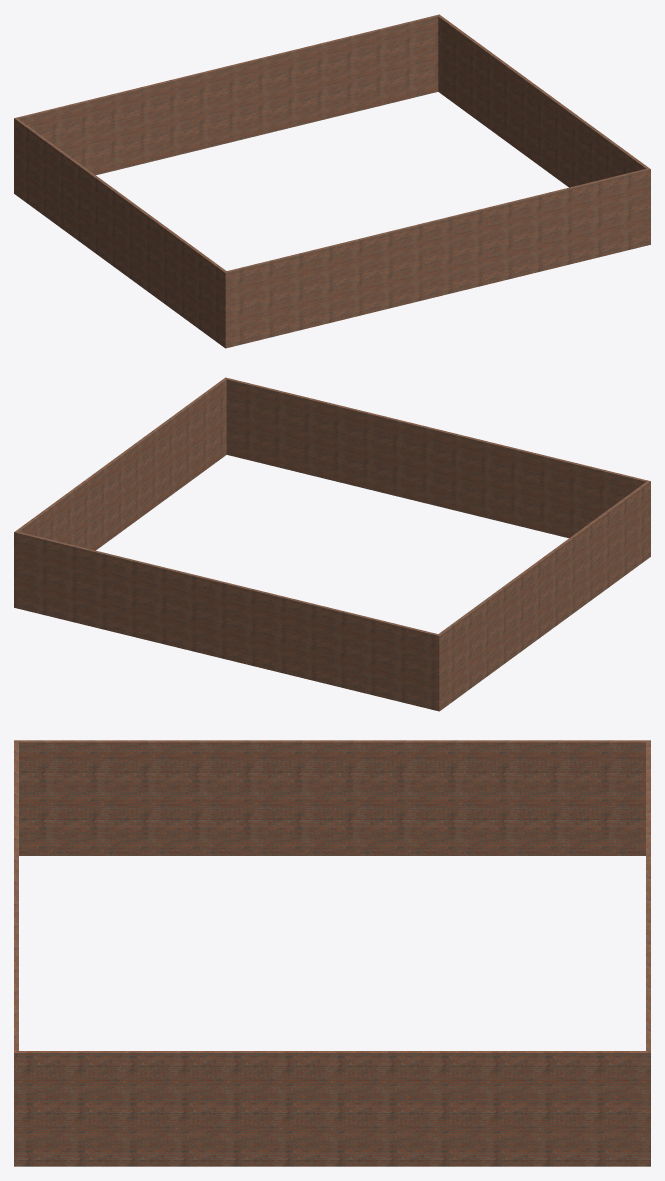
File: walls.dae
3 views of the same model, one above another, from view 1: azimuth 30°, elevation 25°; view 2: azimuth 150°, elevation 25°; view 3: azimuth 270°, elevation 25° (orthographic). The views are drawn at different scales.
Parts seen in each view (by area): view 1: walls; view 2: walls; view 3: walls.
Boxes of the visible parts, <box> form: walls: <box>14,14,650,348</box>; walls: <box>14,377,650,711</box>; walls: <box>14,740,650,1166</box>.
Size of the model in its own units: 59 by 50.8 by 10.
Materials: 1 (1 with a texture image).
